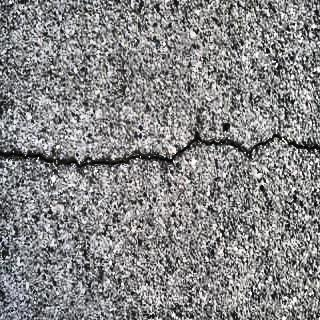crack: (2, 118, 320, 174)
